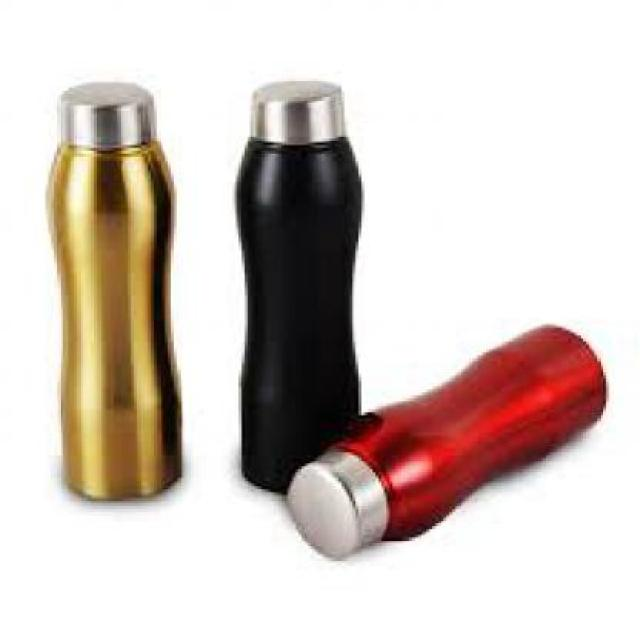Drinking: (34, 68, 188, 512), (307, 358, 611, 538), (233, 68, 361, 444)
